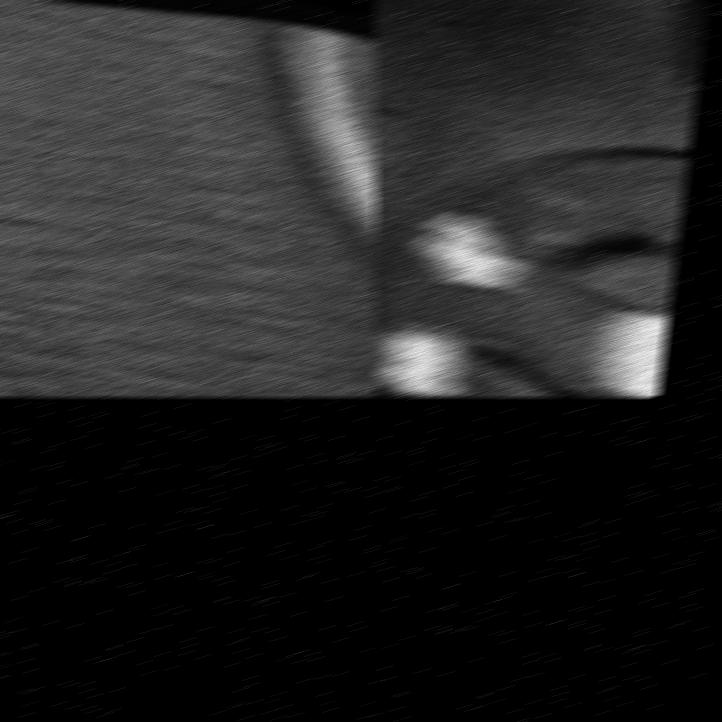Airbag: (0, 0, 377, 396), (373, 0, 722, 396)
